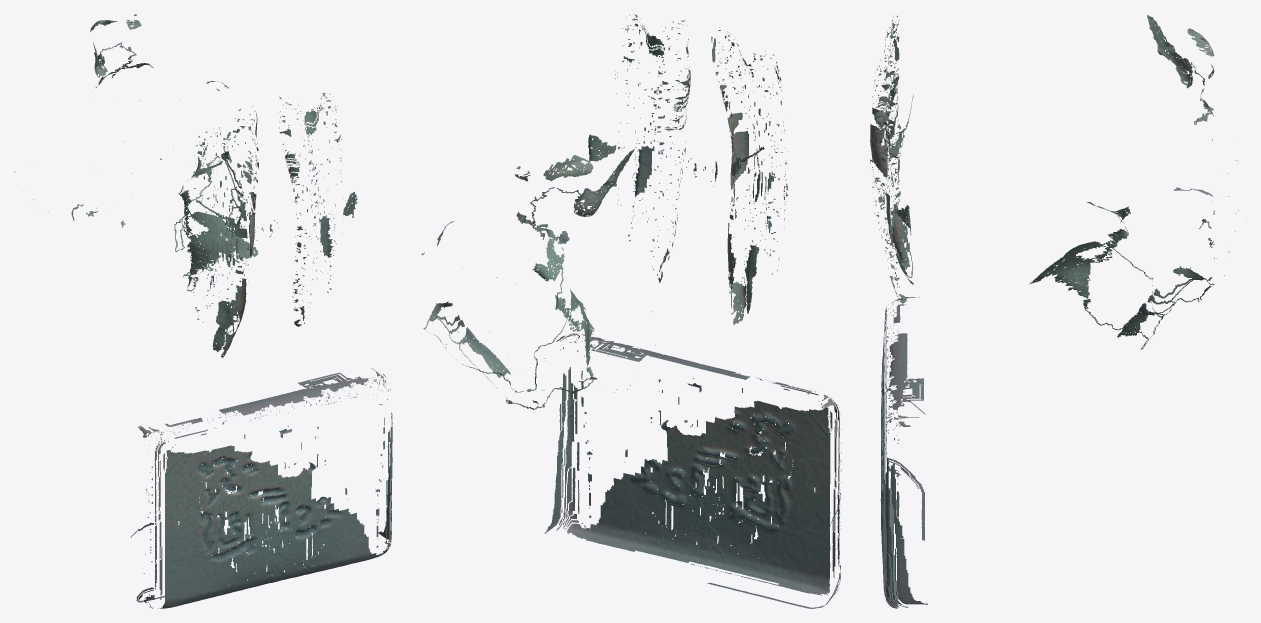
The model's file is cthulhu17_material_0.012_lev1.glb.
The picture shows the model from 3 angles, left to right: view 1: azimuth 30°, elevation 25°; view 2: azimuth 150°, elevation 25°; view 3: azimuth 270°, elevation 25°; orthographic projection. The views are drawn at different scales.
Parts seen in each view (by area): view 1: cthulhu17_material_0.012_lev1; view 2: cthulhu17_material_0.012_lev1; view 3: cthulhu17_material_0.012_lev1.
Boxes of the visible parts, x1,y1,x2,y2 form: cthulhu17_material_0.012_lev1: (14, 14, 392, 608); cthulhu17_material_0.012_lev1: (421, 14, 841, 608); cthulhu17_material_0.012_lev1: (870, 15, 1238, 608).
Bounding box in the file's own units: 2.45 × 4.56 × 3.
